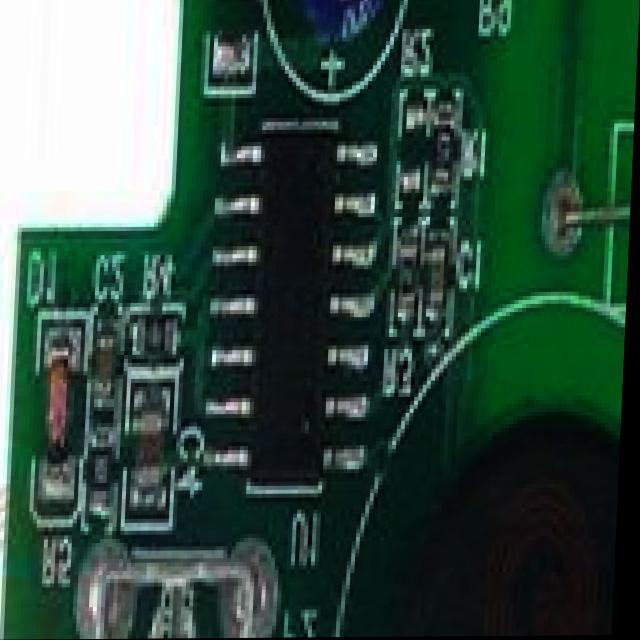IC: (235, 102, 356, 499)
buzzer: (374, 420, 625, 638)
capacitor: (129, 389, 168, 531), (286, 0, 392, 50), (424, 235, 450, 341), (97, 323, 125, 415)
diode: (42, 311, 87, 520)
resistor: (397, 201, 423, 318), (139, 309, 183, 371), (437, 85, 461, 197), (94, 429, 121, 515)
